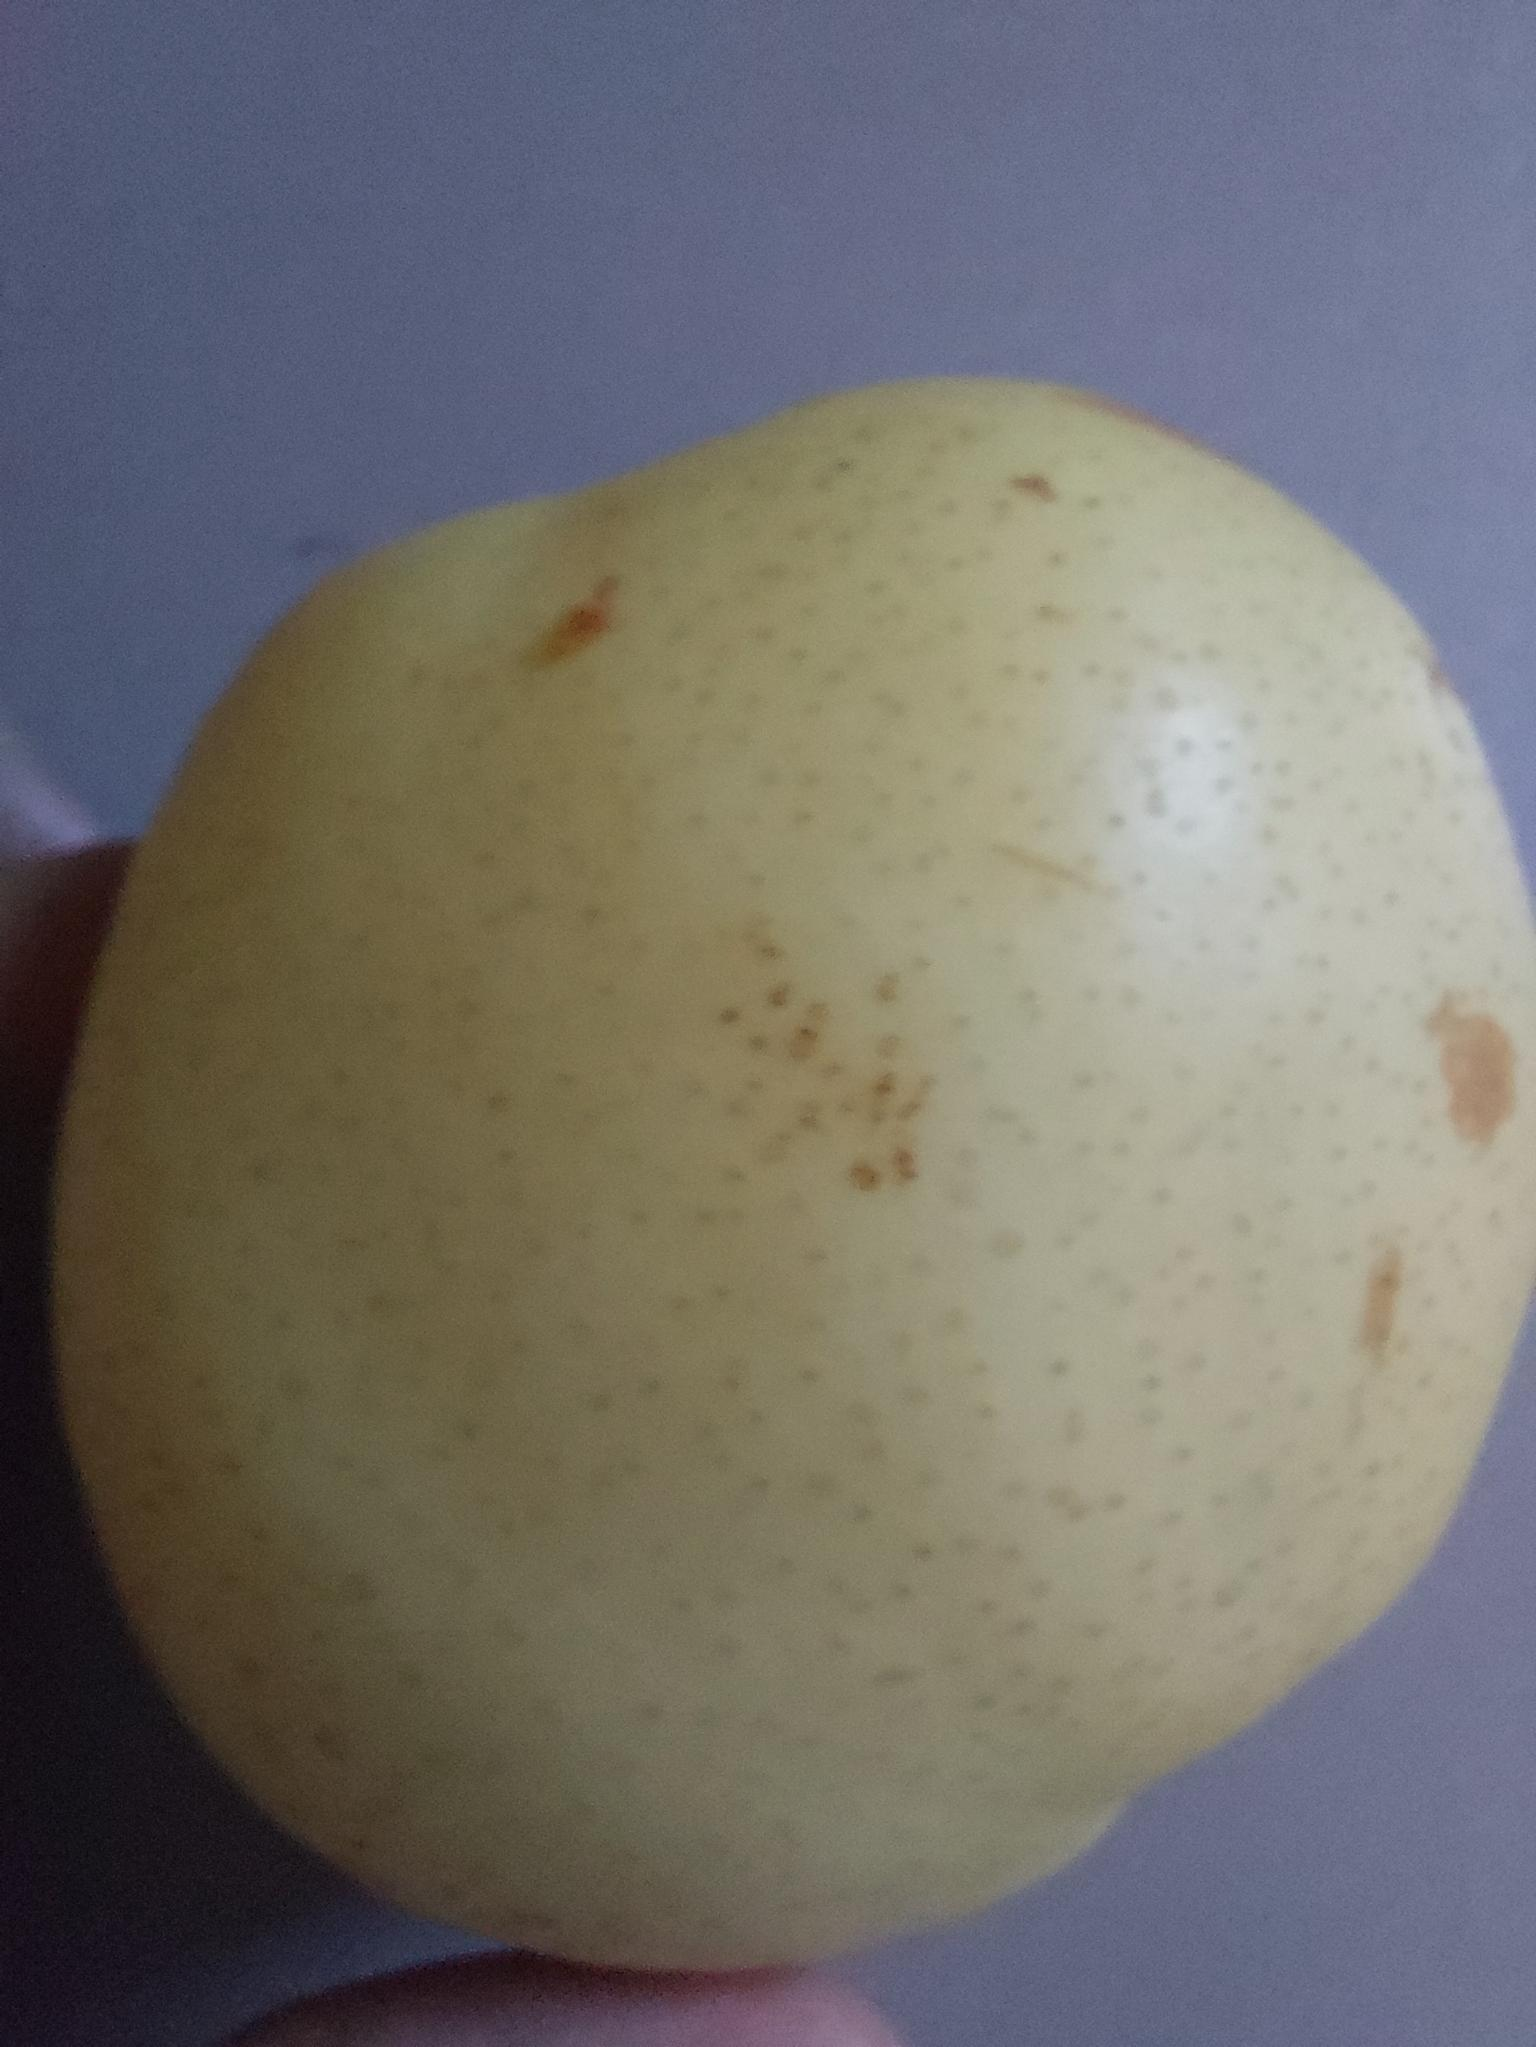Good Pear: (35, 382, 1536, 1976)
